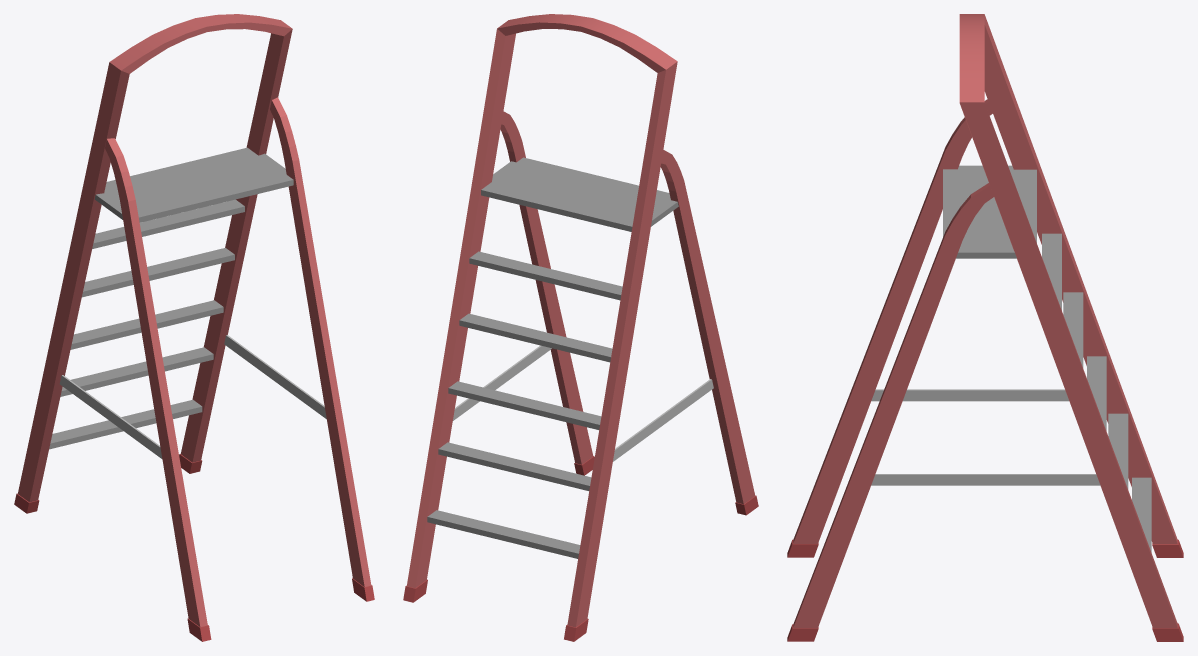
File: Ladder.fbx
3 views of the same model, side by side, from view 1: azimuth 30°, elevation 25°; view 2: azimuth 150°, elevation 25°; view 3: azimuth 270°, elevation 25° (orthographic). The views are drawn at different scales.
Parts seen in each view (by area): view 1: Ladder Final; view 2: Ladder Final; view 3: Ladder Final.
Part boxes in pixels (x1,y1,x2,y2): Ladder Final: (14,14,374,641); Ladder Final: (403,14,758,641); Ladder Final: (787,14,1183,641).
Size of the model in its own units: 71.23 by 210 by 134.
